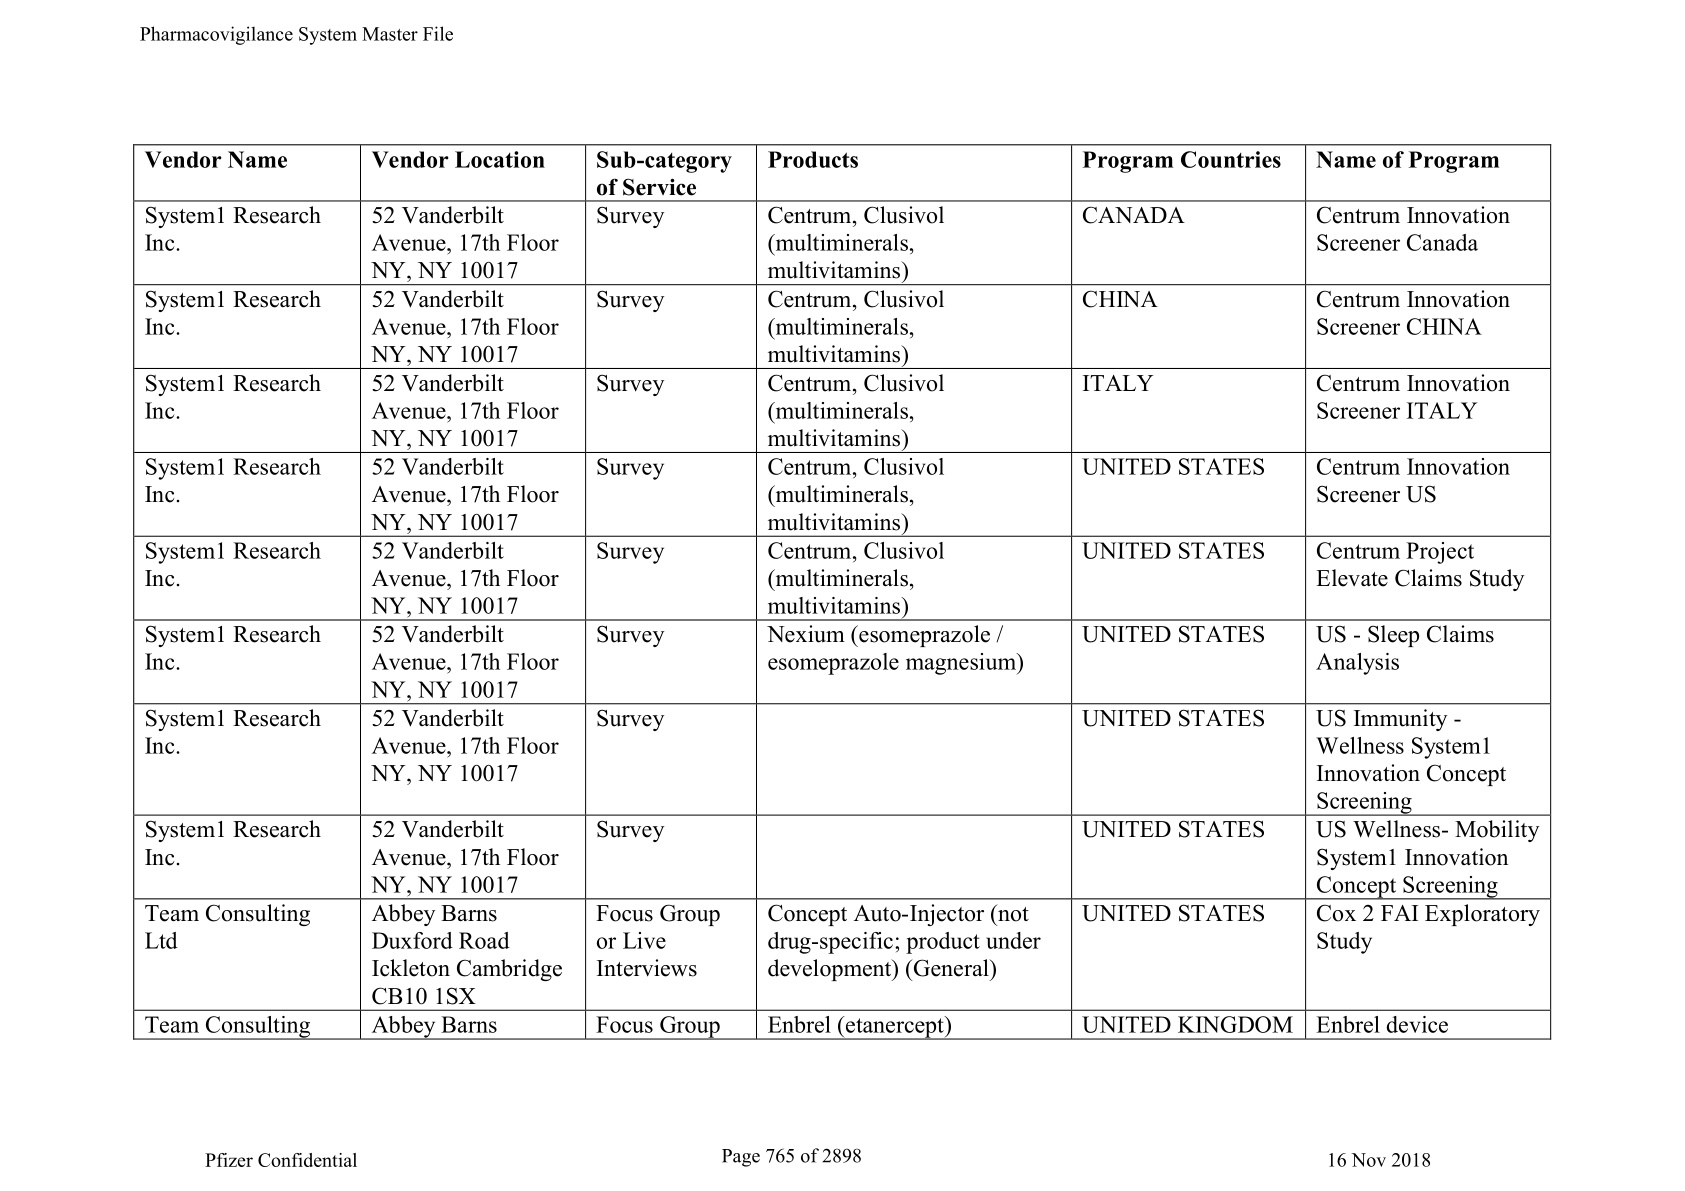full_lined: (131, 144, 1552, 1040)
